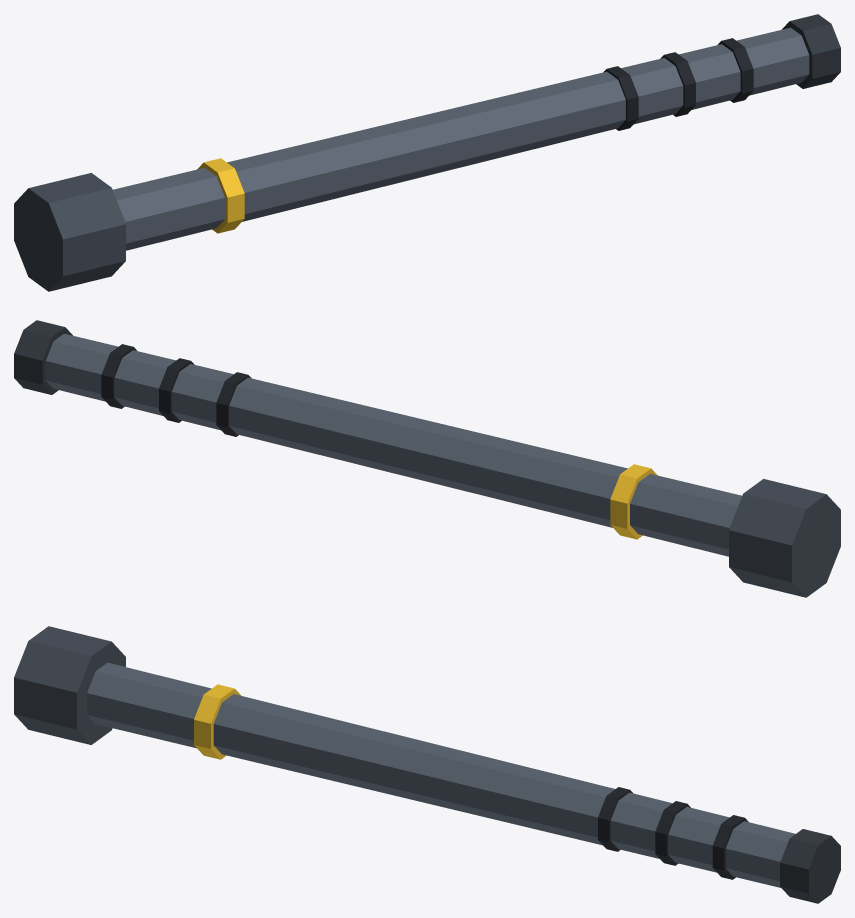
The model's file is barrel_long.glb.
The picture shows the model from 3 angles, top to bottom: view 1: azimuth 30°, elevation 25°; view 2: azimuth 150°, elevation 25°; view 3: azimuth 330°, elevation 25°; orthographic projection.
Visible parts, largest first — view 1: barrel_long; view 2: barrel_long; view 3: barrel_long.
Boxes of the visible parts, x1=… form: barrel_long: x1=14, y1=14, x2=840, y2=291; barrel_long: x1=14, y1=320, x2=840, y2=597; barrel_long: x1=14, y1=626, x2=840, y2=903.
Bounding box in the file's own units: 0.274 × 0.0296 × 0.0296.
